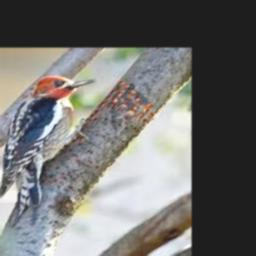Woodpecker: (0, 75, 96, 226)
